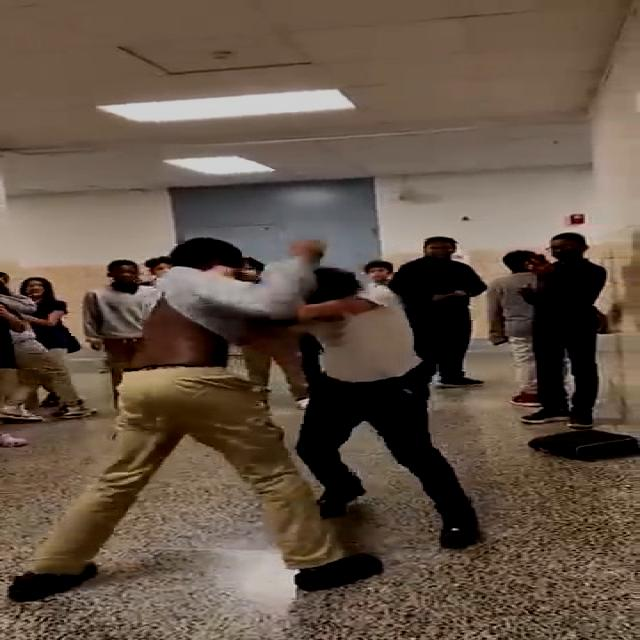fight: (10, 236, 487, 603)
